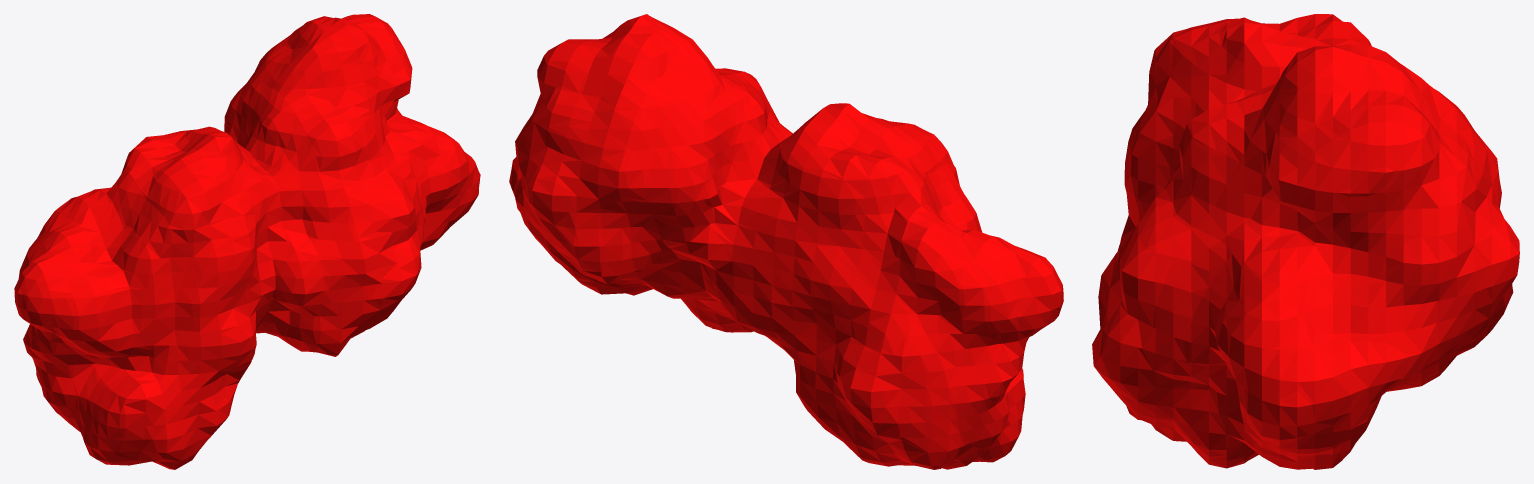
The model's file is 4F2_cell_surface_antigen_heavy_coarse.dae.
The picture shows the model from 3 angles, left to right: view 1: azimuth 30°, elevation 25°; view 2: azimuth 150°, elevation 25°; view 3: azimuth 270°, elevation 25°; orthographic projection. The views are drawn at different scales.
Visible parts, largest first — view 1: 4F2_cell_surface_antigen_heavy; view 2: 4F2_cell_surface_antigen_heavy; view 3: 4F2_cell_surface_antigen_heavy.
Boxes of the visible parts, x1,y1,x2,y2 form: 4F2_cell_surface_antigen_heavy: [14, 14, 480, 469]; 4F2_cell_surface_antigen_heavy: [509, 14, 1063, 469]; 4F2_cell_surface_antigen_heavy: [1092, 14, 1519, 469].
Size of the model in its own units: 116 by 84.48 by 59.28.
